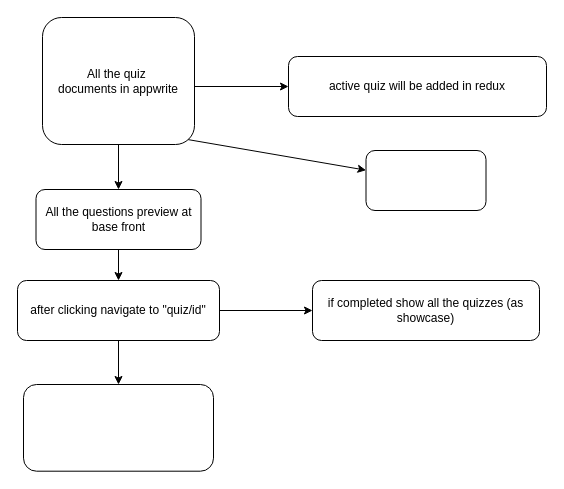
This 564x489 diagram has some shape labels left out. Here are the shapes that lost their labels. From the top down, the centre of each, then its label:
(x=425, y=180): to create a quiz '+'
(x=118, y=427): if not completed resume to question left
